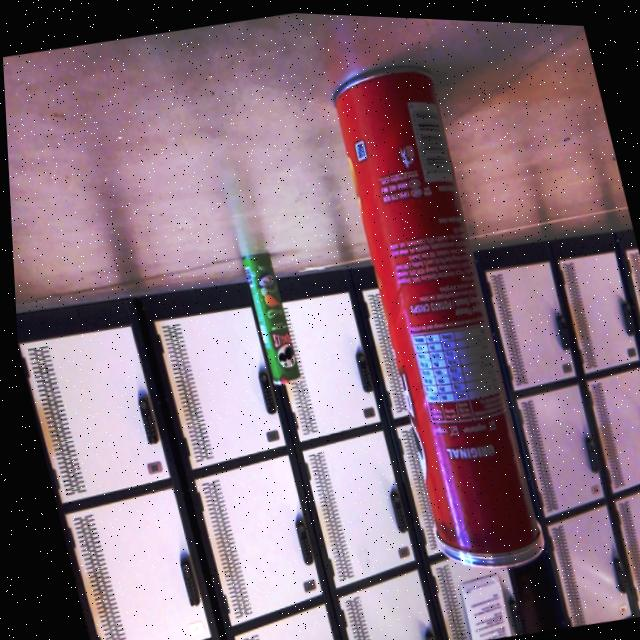greenpringles: (223, 236, 310, 401)
redpringles: (300, 42, 567, 593)
